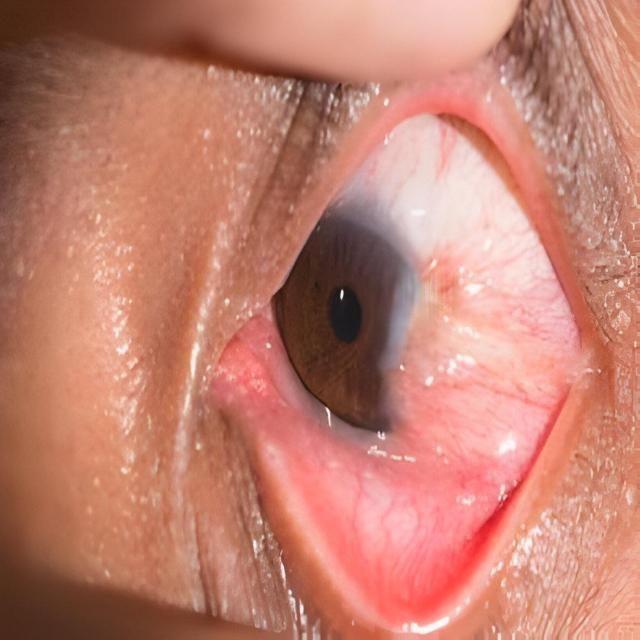Pterygium: (380, 224, 581, 468)
